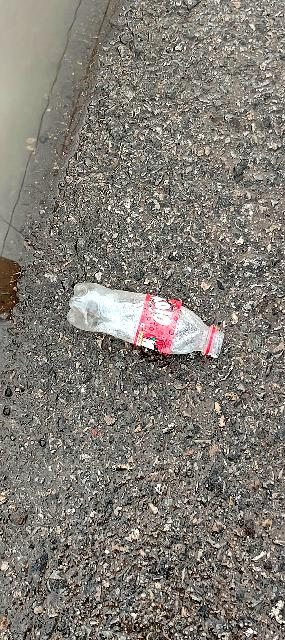bottle: (54, 285, 249, 365)
